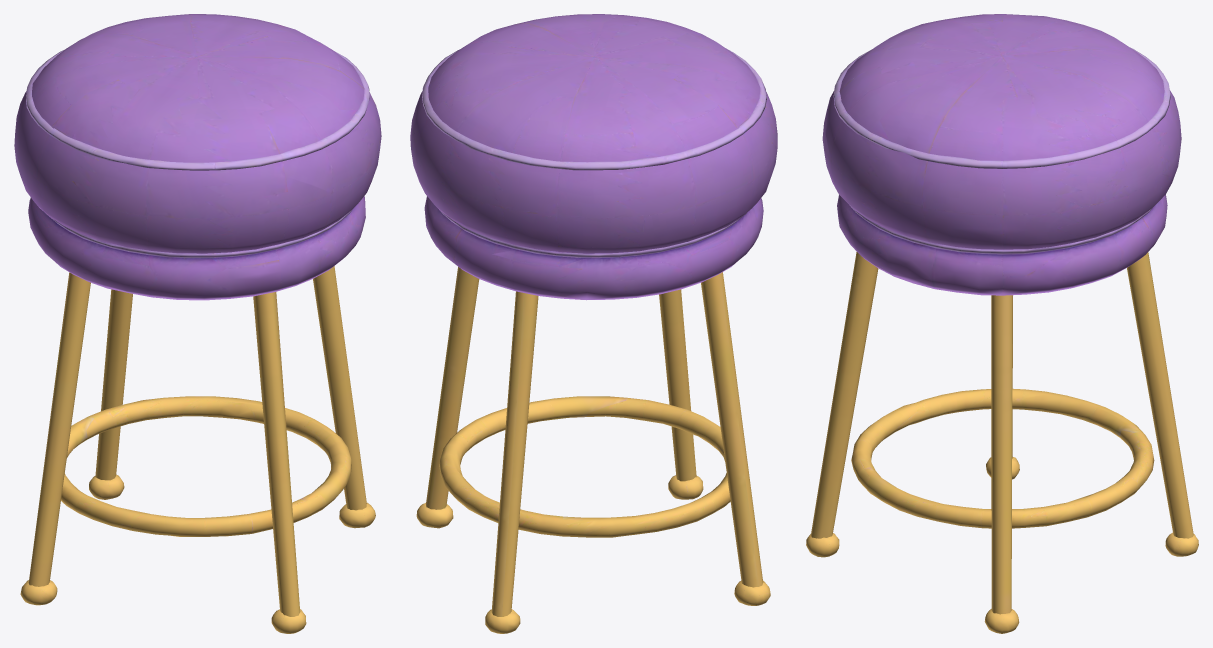
The model's file is bar-stool.glb.
3 views of the same model, side by side, from view 1: azimuth 30°, elevation 25°; view 2: azimuth 150°, elevation 25°; view 3: azimuth 270°, elevation 25° (orthographic).
Parts seen in each view (by area): view 1: geometry_0; view 2: geometry_0; view 3: geometry_0.
Part boxes in pixels (<box>): geometry_0: <box>14,14,381,633</box>; geometry_0: <box>410,14,777,633</box>; geometry_0: <box>806,14,1198,633</box>.
Bounding box in the file's own units: 0.7247 × 1 × 0.7169.
Materials: 1 (1 with a texture image).
